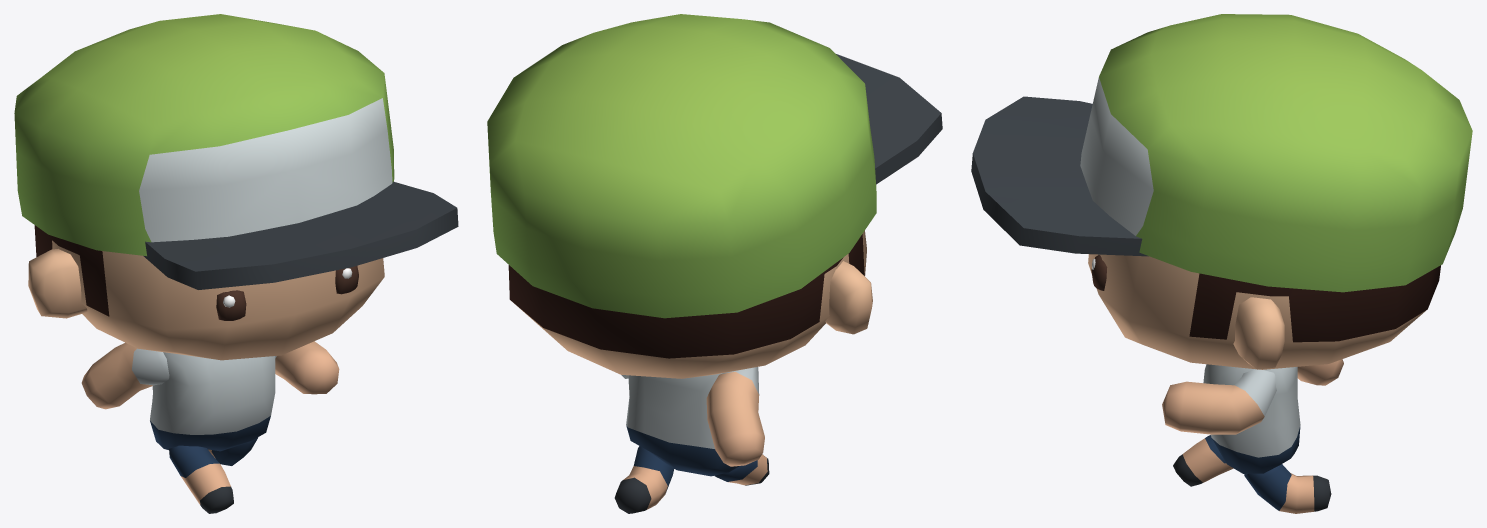
The model's file is run_0010.obj.
3 renders of one model, left to right at view 1: azimuth 30°, elevation 25°; view 2: azimuth 150°, elevation 25°; view 3: azimuth 270°, elevation 25°, orthographic. The views are drawn at different scales.
Parts seen in each view (by area): view 1: Object_41, Object_42, Object_36, Object_44, Object_38; view 2: Object_41, Object_36, Object_44, Object_42; view 3: Object_41, Object_36, Object_42, Object_44.
Boxes of the visible parts, left/top/right/bottom form: Object_41: left=14, top=14, right=394, bottom=256; Object_42: left=139, top=98, right=458, bottom=289; Object_36: left=28, top=225, right=384, bottom=360; Object_44: left=81, top=341, right=339, bottom=513; Object_38: left=216, top=266, right=358, bottom=320; Object_41: left=487, top=14, right=876, bottom=318; Object_36: left=508, top=230, right=872, bottom=378; Object_44: left=614, top=367, right=769, bottom=513; Object_42: left=836, top=54, right=942, bottom=184; Object_41: left=1099, top=14, right=1472, bottom=292; Object_36: left=1088, top=254, right=1440, bottom=369; Object_42: left=971, top=77, right=1153, bottom=256; Object_44: left=1162, top=359, right=1343, bottom=513.
Bounding box in the file's own units: 0.9691 × 1.15 × 1.14.
